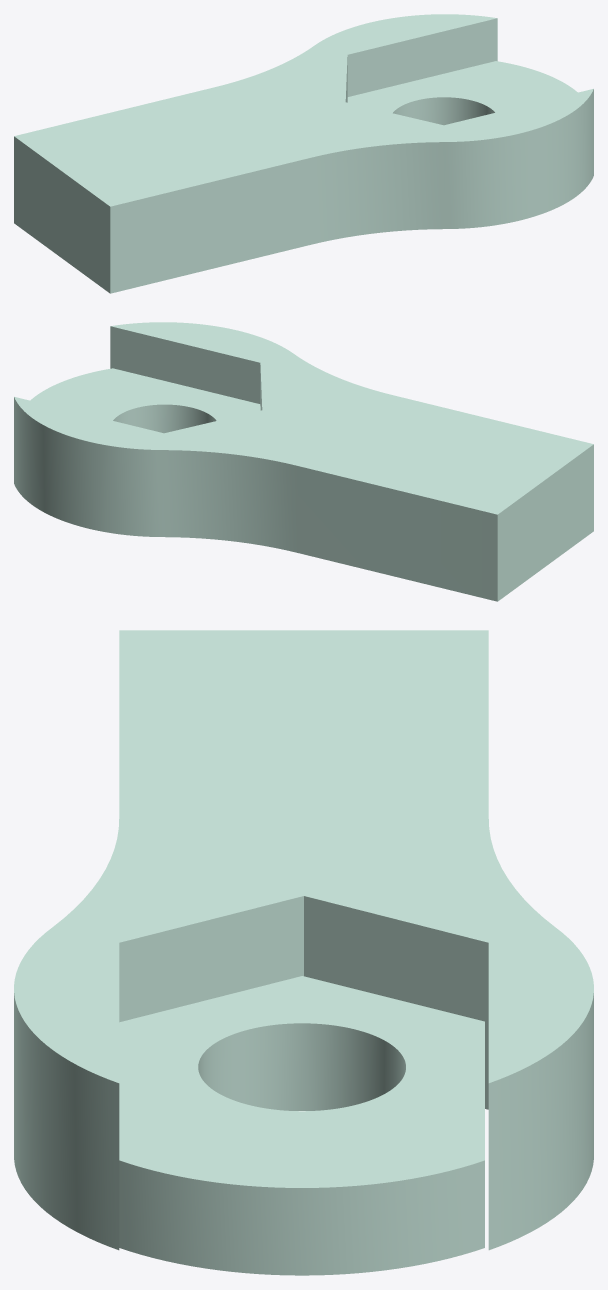
3 views of the same model, one above another, from view 1: azimuth 30°, elevation 25°; view 2: azimuth 150°, elevation 25°; view 3: azimuth 270°, elevation 25° (orthographic). The views are drawn at different scales.
Parts seen in each view (by area): view 1: Renderer Node; view 2: Renderer Node; view 3: Renderer Node.
Part boxes in pixels (x1,y1,x2,y2): Renderer Node: (14,14,593,293); Renderer Node: (14,322,593,601); Renderer Node: (14,630,593,1275).
Bounding box in the file's own units: 1.01 × 0.1641 × 0.5162.
